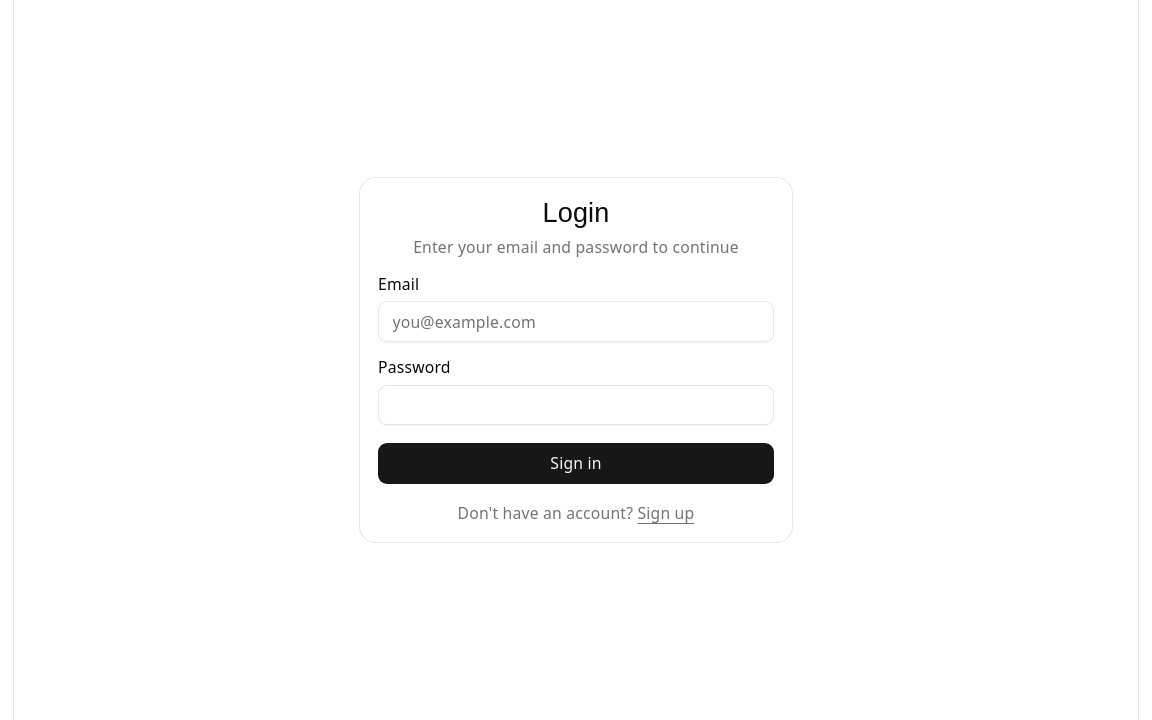
Test case: LoginForm › shows validation errors on empty submit
Click the button "Sign in" at point(576, 463), box [378,443,774,484]
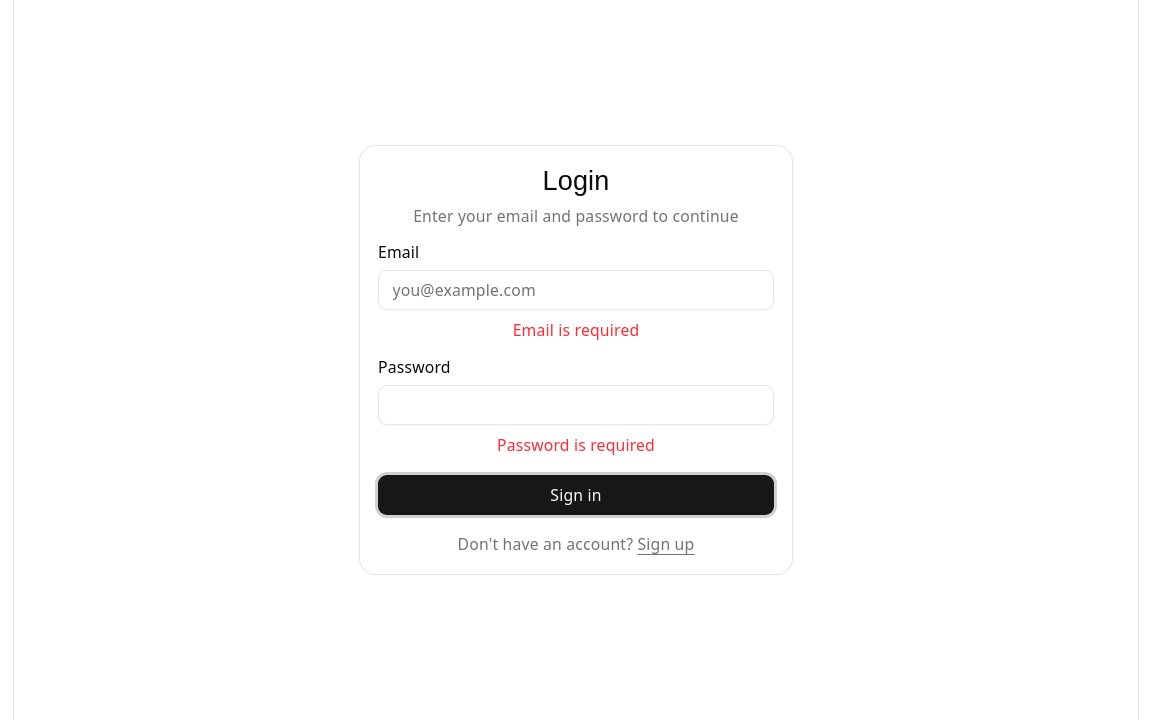
Expected: the text "Email is required" is shown, [513,320,639,342]
Expected: the text "Password is required" is shown, [497,434,655,456]
